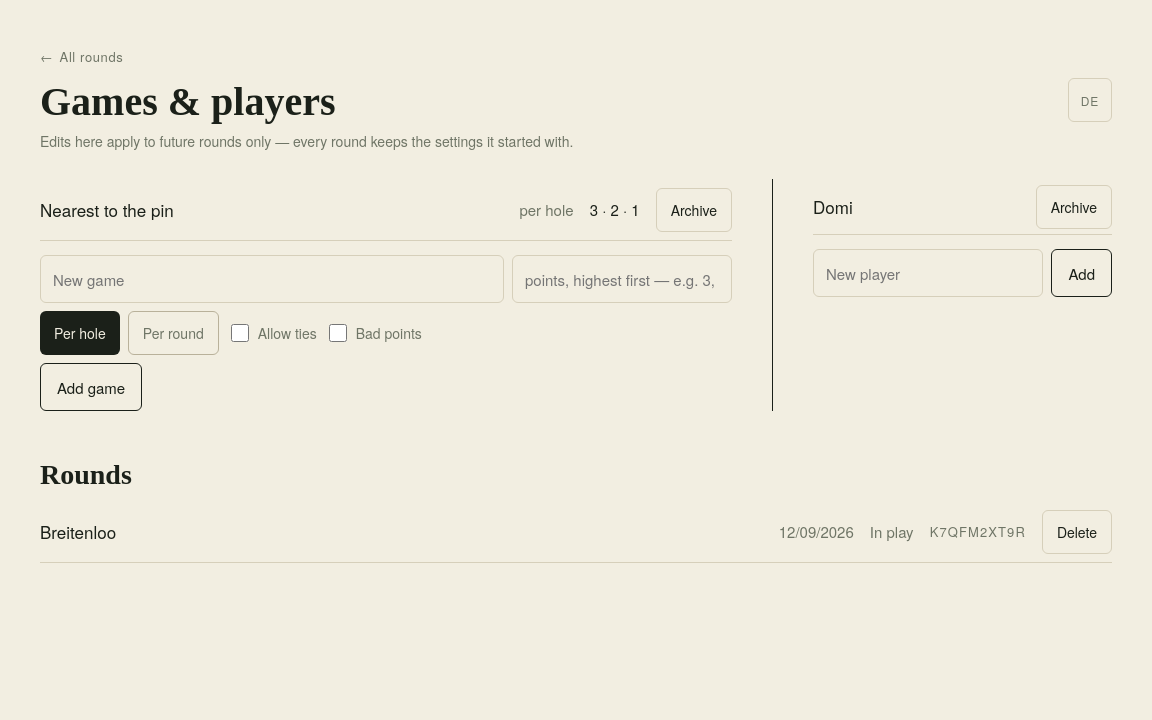
Test case: AdminPanel › shows a network error when creating a game fails at the network level, without clearing the stored password
Expected: the text "Nearest to the pin" is shown, x1=40 y1=197 x2=174 y2=222
Type "Fewest putts" into the field named "game name" at (272, 279), box x1=40 y1=255 x2=504 y2=303
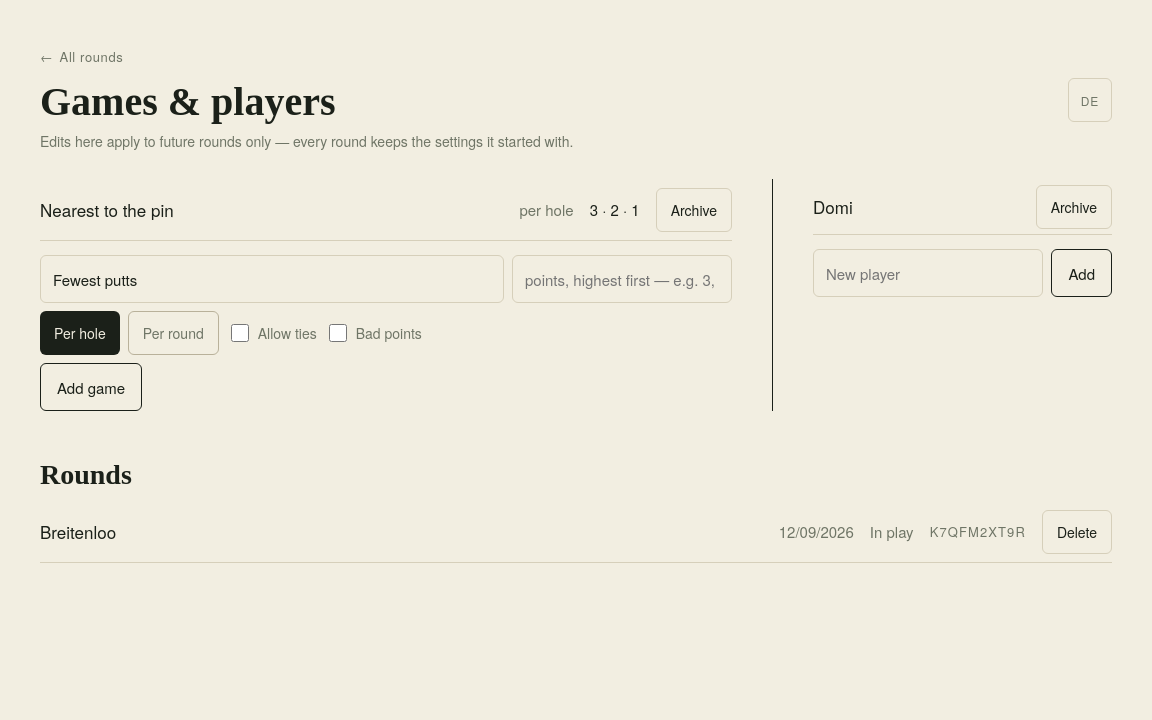
Type "3, 2, 1" into the field labelled "points, highest first — e.g. 3, 2, 1" at (622, 279), box x1=512 y1=255 x2=732 y2=303
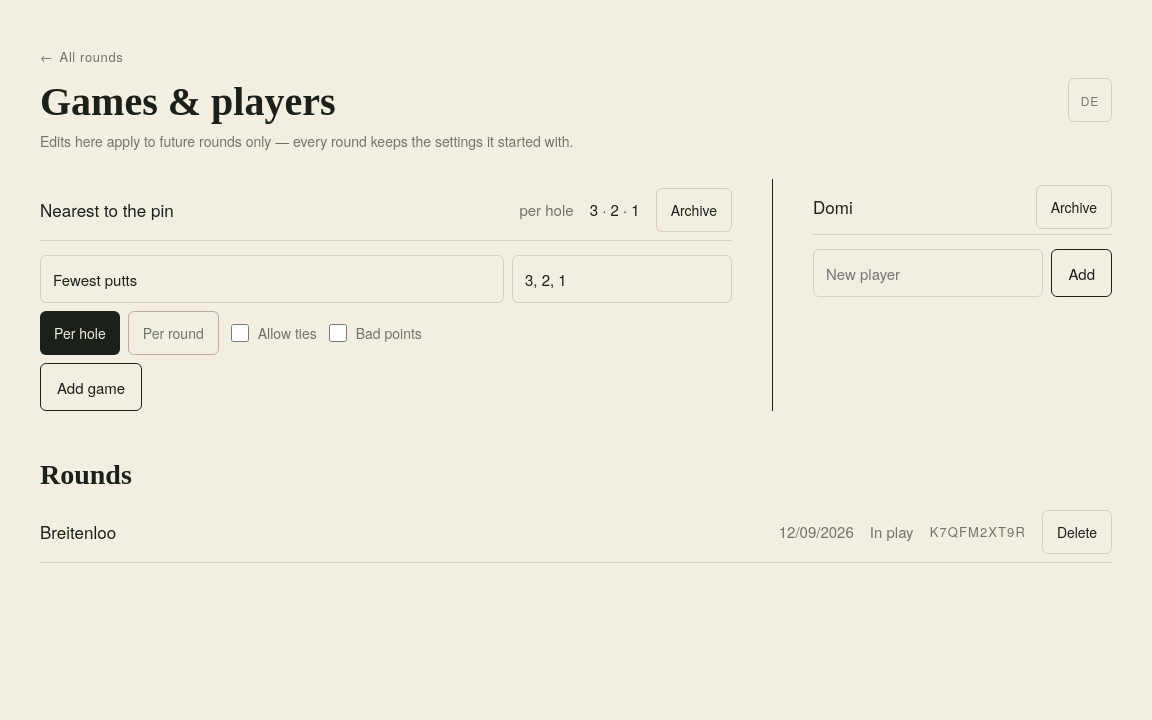
Click the button "Add game" at (91, 387), box x1=40 y1=363 x2=142 y2=411
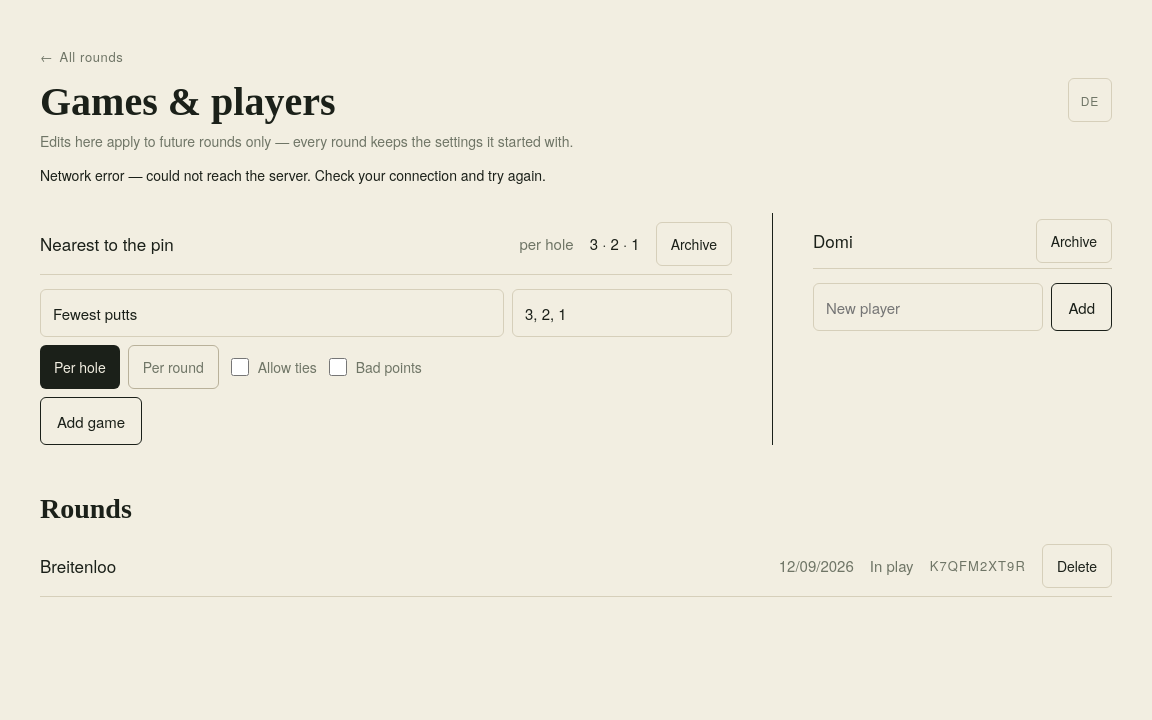
Expected: the text "Network" is shown, x1=40 y1=165 x2=546 y2=185
